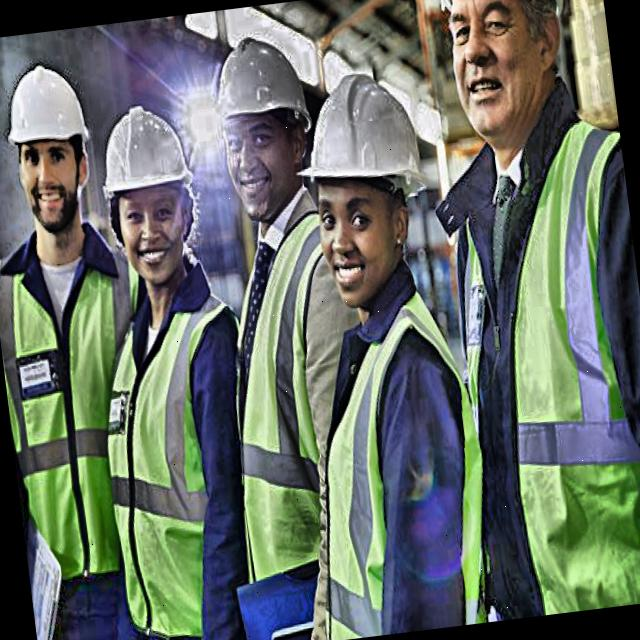helmet: (274, 46, 448, 310), (408, 0, 590, 173), (195, 6, 329, 231), (97, 91, 226, 302), (0, 45, 112, 250)
